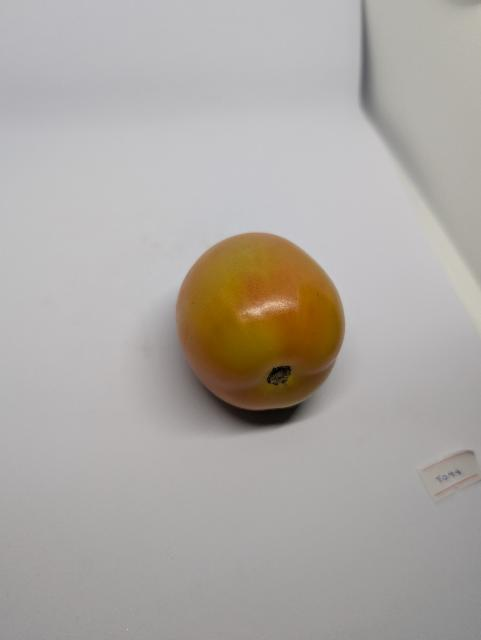turning: (169, 224, 356, 418)
